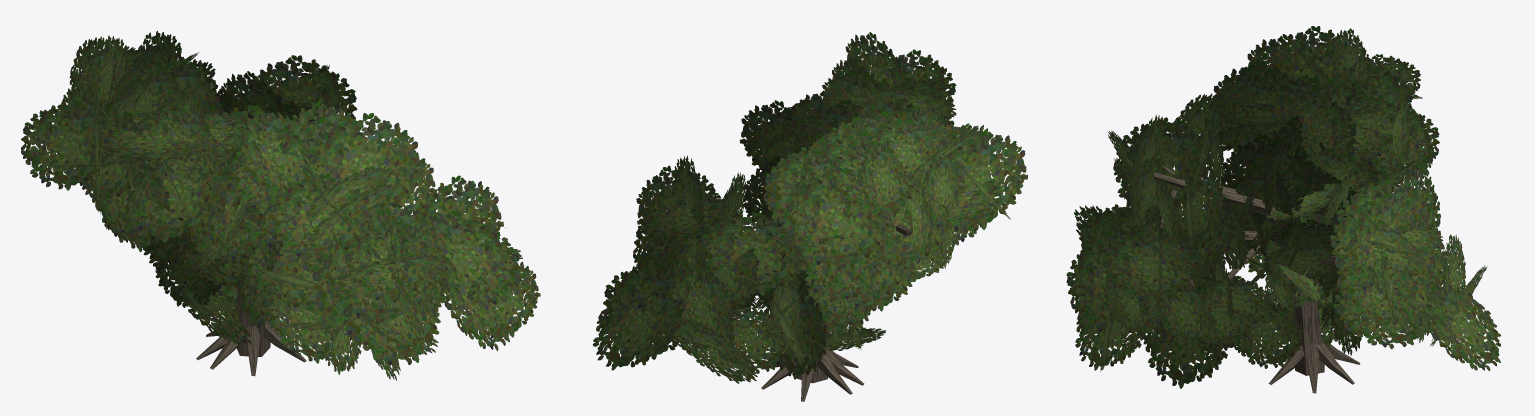
File: TwistedTree_2_LOD1.gltf
3 renders of one model, left to right at view 1: azimuth 30°, elevation 25°; view 2: azimuth 150°, elevation 25°; view 3: azimuth 270°, elevation 25°, orthographic. The views are drawn at different scales.
Parts seen in each view (by area): view 1: TwistedTree_2_LOD1; view 2: TwistedTree_2_LOD1; view 3: TwistedTree_2_LOD1.
Boxes of the visible parts, x1=… form: TwistedTree_2_LOD1: x1=21, y1=30, x2=540, y2=380; TwistedTree_2_LOD1: x1=592, y1=32, x2=1027, y2=401; TwistedTree_2_LOD1: x1=1066, y1=26, x2=1500, y2=393.
Bounding box in the file's own units: 16.79 × 13.07 × 18.86.
Materials: 2 (2 with a texture image).
